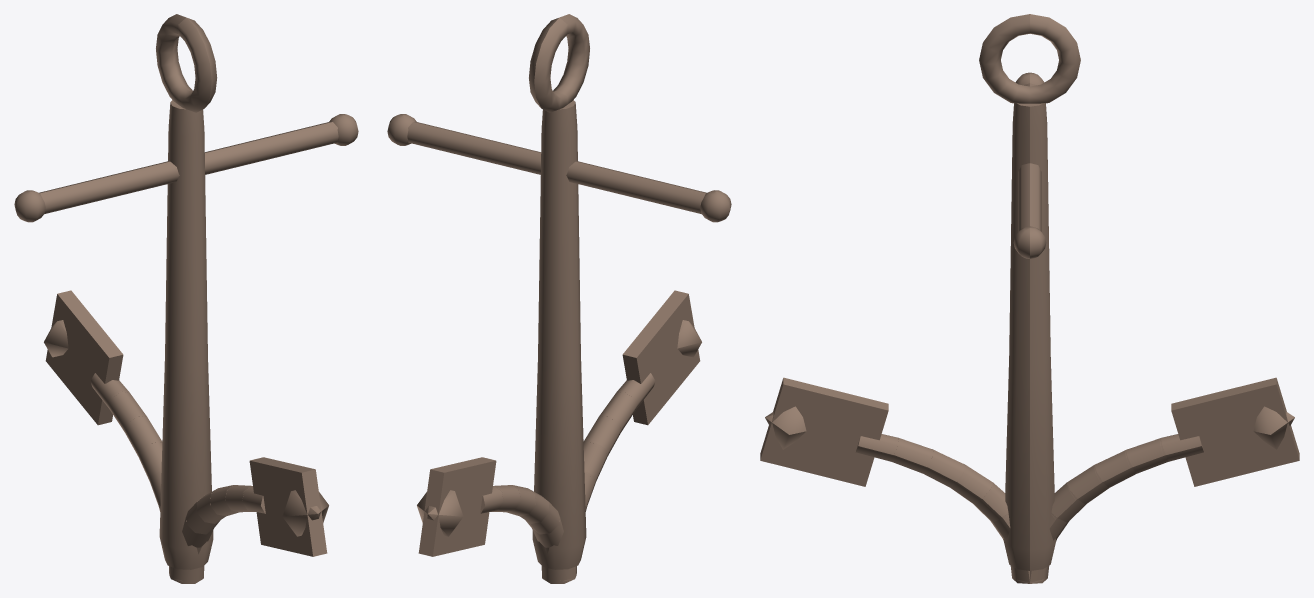
Rendered from anker.glb.
3 renders of one model, left to right at view 1: azimuth 30°, elevation 25°; view 2: azimuth 150°, elevation 25°; view 3: azimuth 270°, elevation 25°, orthographic.
Visible parts, largest first — view 1: G_anker; view 2: G_anker; view 3: G_anker.
Part boxes in pixels (left/top/right/bottom): G_anker: left=14, top=14, right=358, bottom=583; G_anker: left=387, top=14, right=731, bottom=583; G_anker: left=760, top=14, right=1299, bottom=583.
Bounding box in the file's own units: 1.09 × 1.71 × 1.48.
